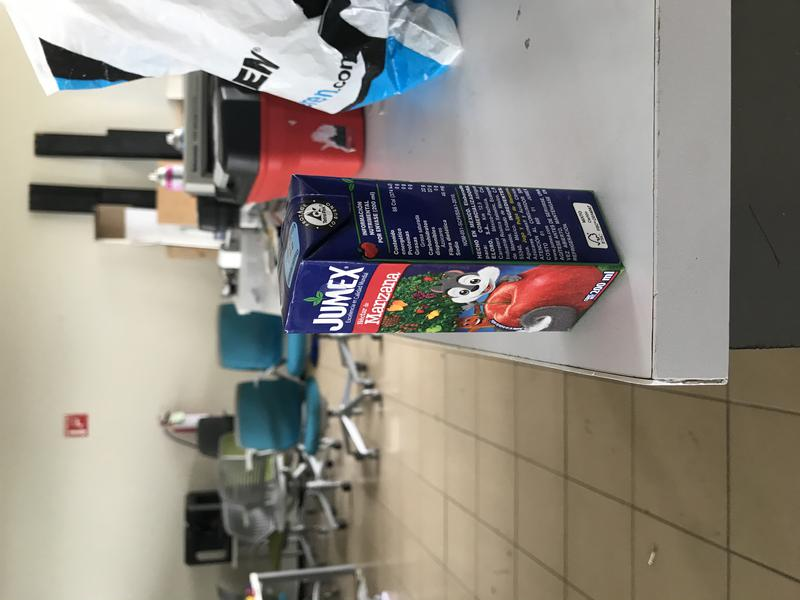jumex_cajita: (277, 173, 625, 334)
